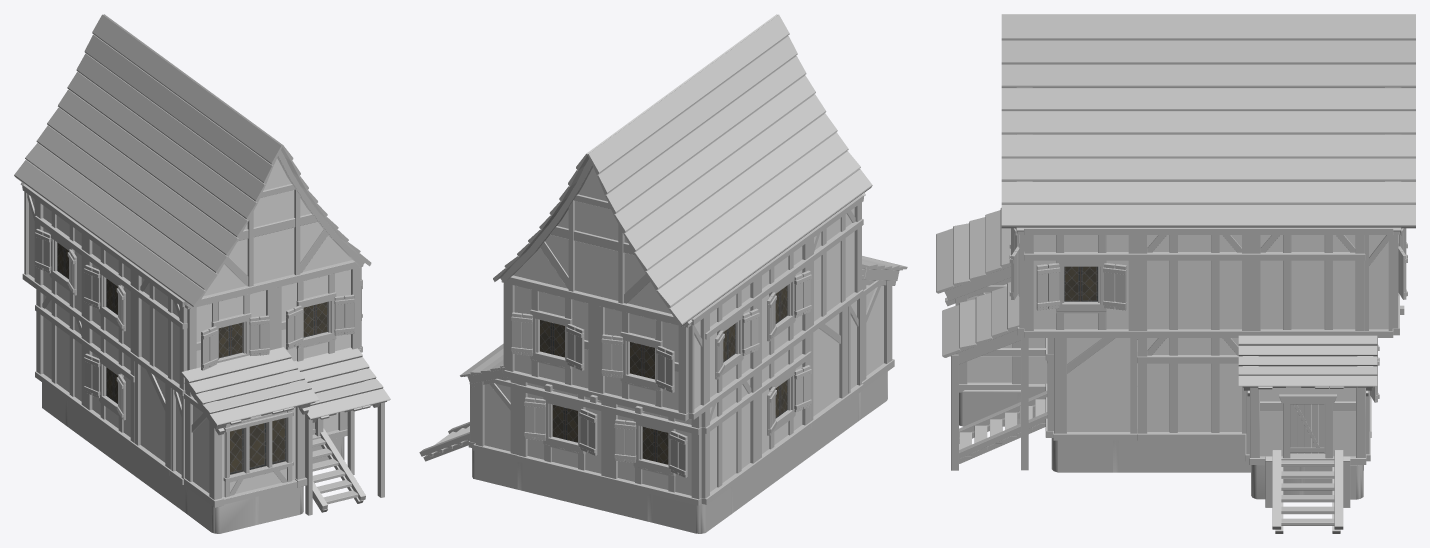
The model's file is House_1A16.fbx.
3 views of the same model, side by side, from view 1: azimuth 30°, elevation 25°; view 2: azimuth 150°, elevation 25°; view 3: azimuth 270°, elevation 25° (orthographic). The views are drawn at different scales.
Visible parts, largest first — view 1: House_1A16, Plane.185, Plane.184, Plane.183; view 2: House_1A16, Plane.213, Plane.214, Plane.211, Plane.212; view 3: House_1A16, Cube.2354, Plane.397.
Boxes of the visible parts, x1,y1,x2,y2 form: House_1A16: [14, 14, 390, 533]; Plane.185: [230, 418, 285, 474]; Plane.184: [303, 302, 327, 337]; Plane.183: [219, 322, 242, 358]; House_1A16: [419, 14, 907, 533]; Plane.213: [642, 427, 668, 464]; Plane.214: [552, 405, 577, 442]; Plane.211: [630, 342, 654, 379]; Plane.212: [540, 320, 564, 357]; House_1A16: [936, 14, 1415, 533]; Cube.2354: [1290, 403, 1325, 453]; Plane.397: [1064, 266, 1097, 301].
Size of the model in its own units: 1401 by 1687 by 1761.
